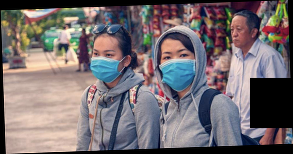with_mask: (158, 47, 196, 94), (89, 47, 124, 85)
without_mask: (231, 23, 250, 47)
